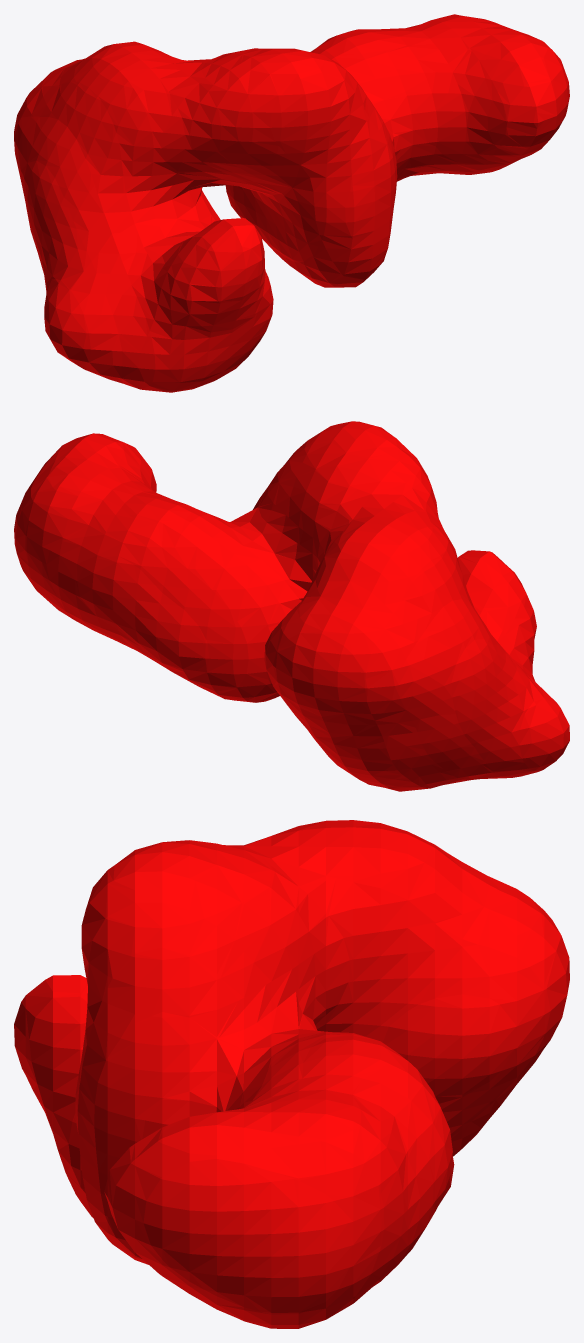
The model's file is cspD_coarse.dae.
3 views of the same model, one above another, from view 1: azimuth 30°, elevation 25°; view 2: azimuth 150°, elevation 25°; view 3: azimuth 270°, elevation 25° (orthographic). The views are drawn at different scales.
Parts seen in each view (by area): view 1: cspD; view 2: cspD; view 3: cspD.
Part boxes in pixels (x1,y1,x2,y2): cspD: (14,14,569,392); cspD: (14,421,569,791); cspD: (14,820,569,1328).
Size of the model in its own units: 51.99 by 29.31 by 33.02.
